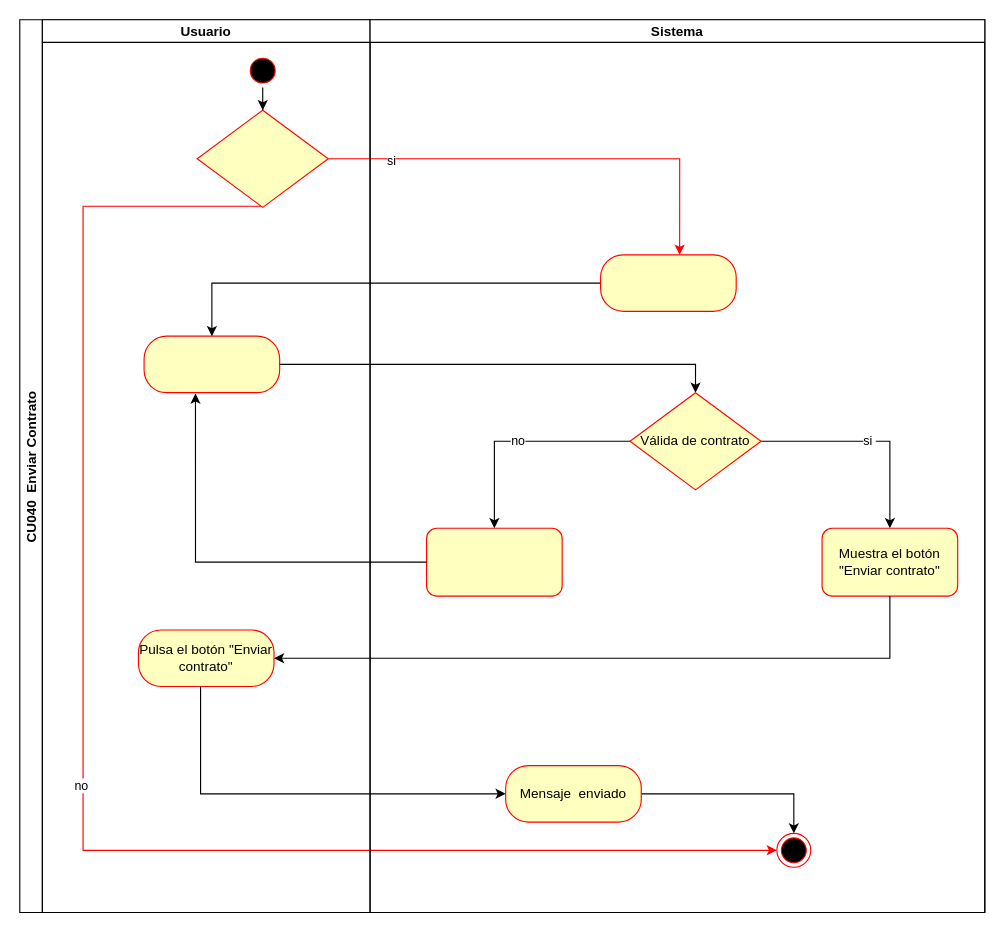
The diagram is 1005 pixels wide and 932 high, and some of its shapes have lost their labels. Each missing label, with the centre of its shape:
Carga el contrato: (211,364)
Mensaje de mensaje no válido.: (493,561)
Muestra el apartado: (667,282)
Pulsar el apartado "contrato": (262,158)
